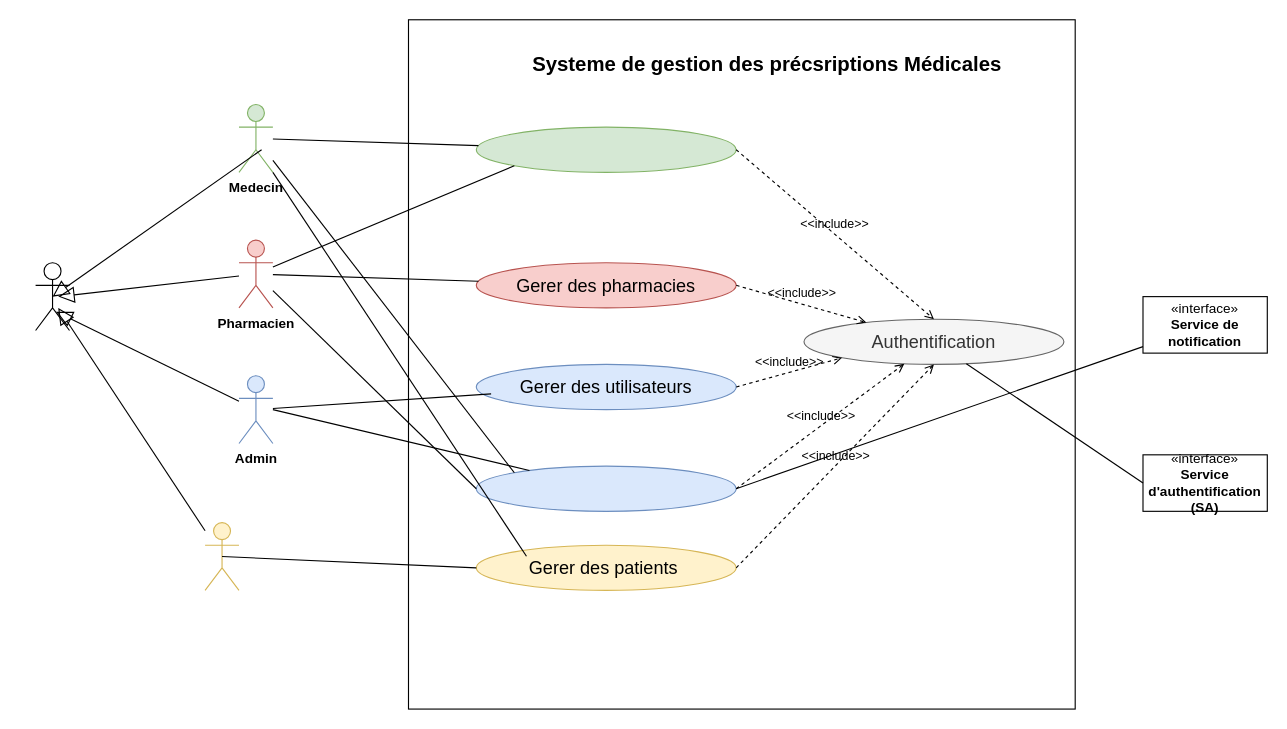
Some shapes in this 1287 by 729 pixel diagram are drawn without their labels. Each missing label, with the box of its shape:
Gerer des notifications: (475, 465, 736, 511)
Gerer des prescriptions: (475, 126, 736, 172)
Patient: (204, 521, 239, 590)
Utilisateur: (34, 262, 69, 331)
